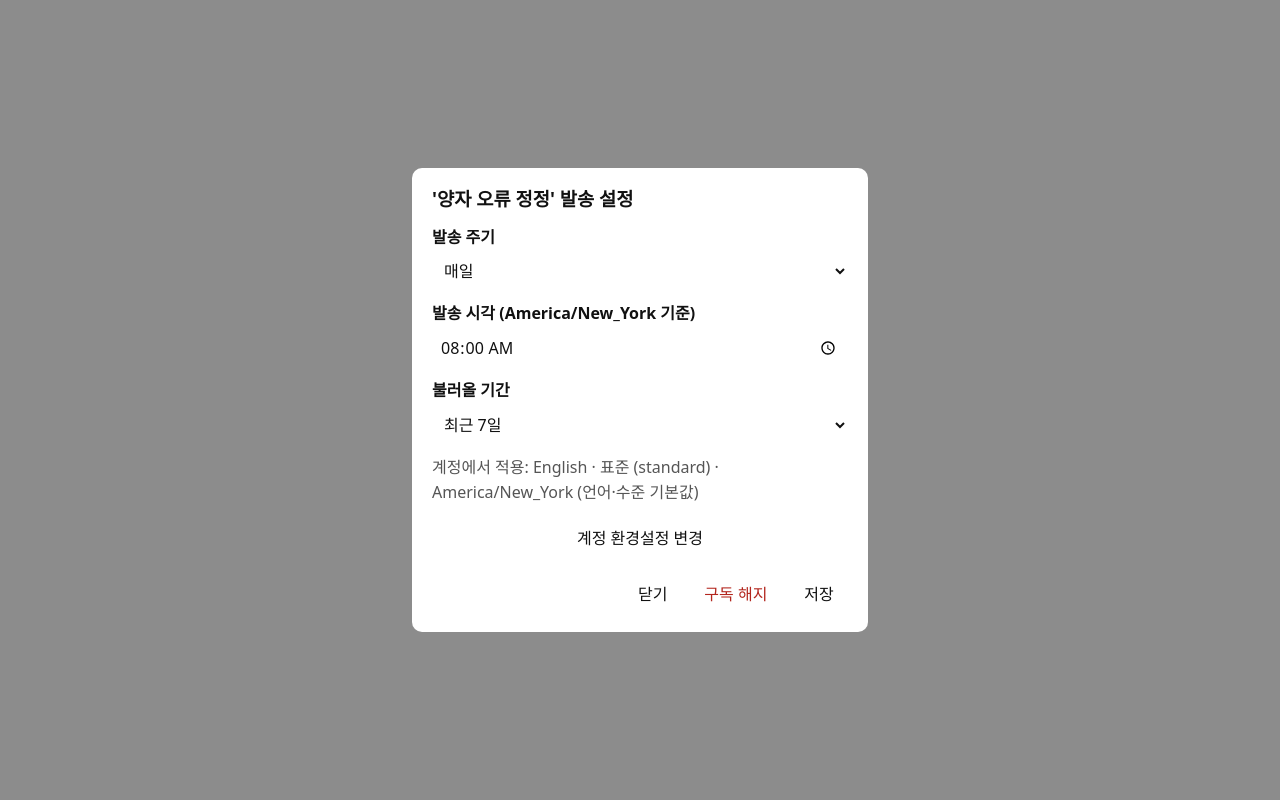
Test case: weekly settings and save outcomes › shows a reload failure instead of claiming the refresh succeeded
The width and height of the screenshot is (1280, 800).
Click the button with test id "save-button" at (819, 594), box [790,572,848,616]
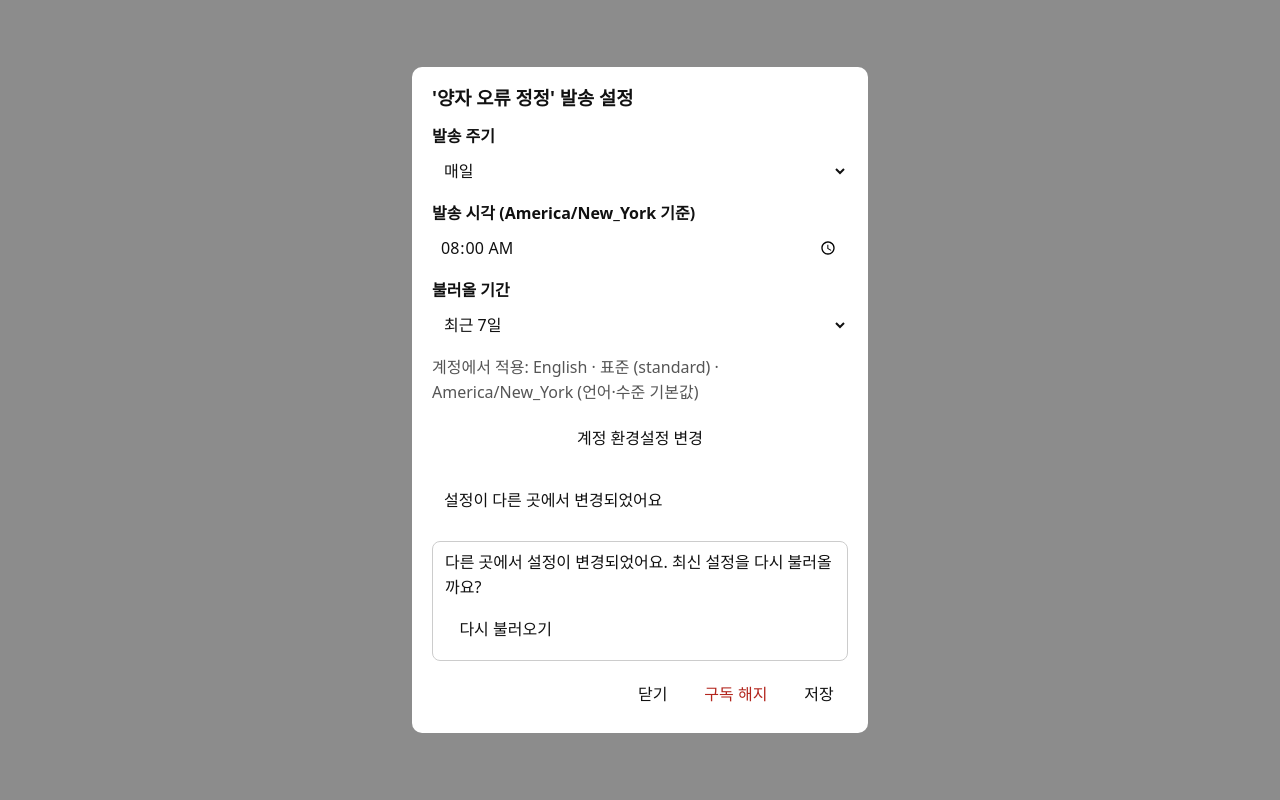
Click the button with test id "stale-reload" at (506, 630), box [445,608,566,652]
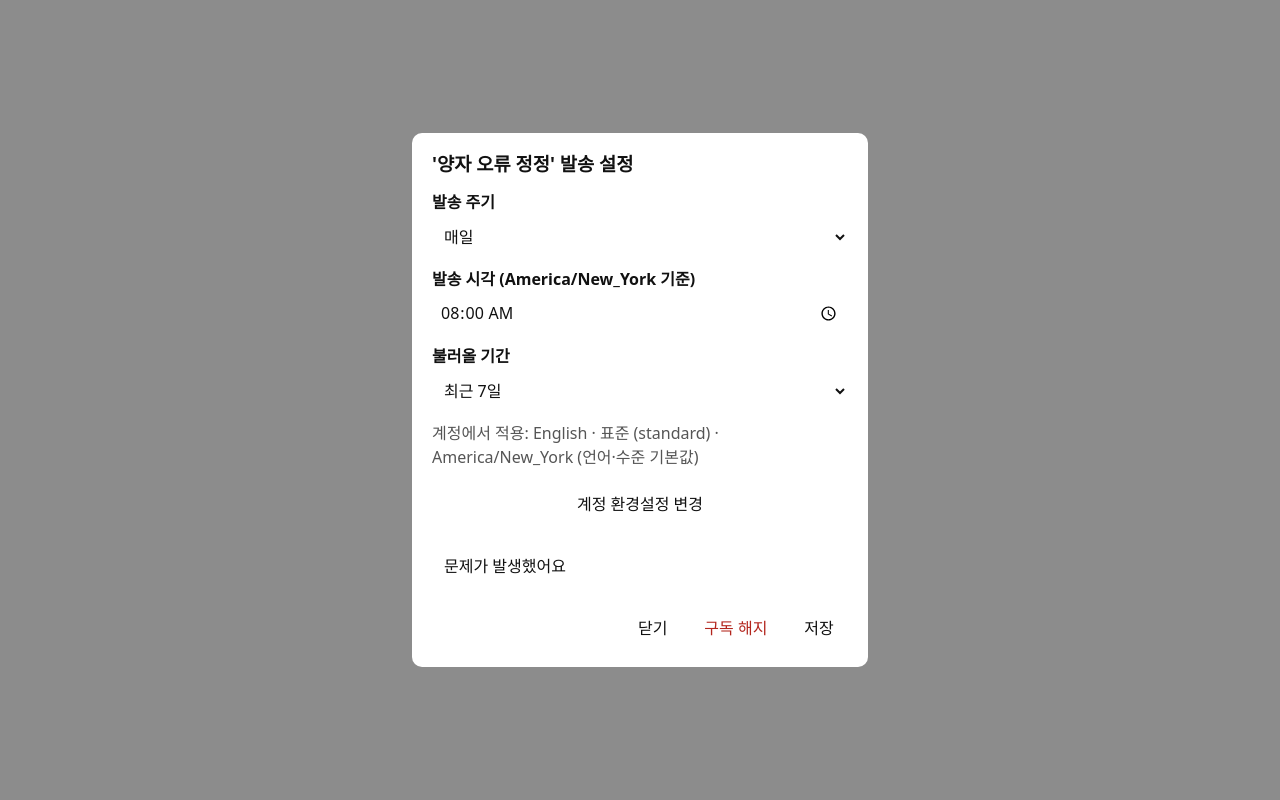
Expected: the message with test id "status-line" reads "문제가 발생했어요", [444,555,566,577]
